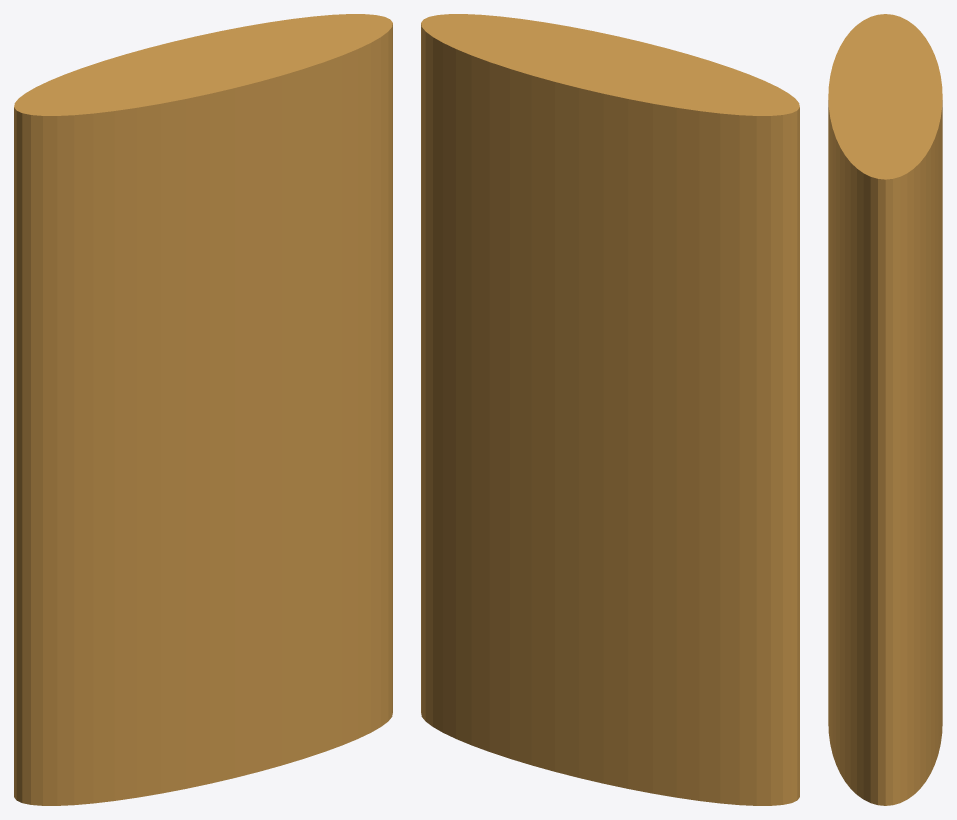
The model's file is tinkercad_model.glb.
3 renders of one model, left to right at view 1: azimuth 30°, elevation 25°; view 2: azimuth 150°, elevation 25°; view 3: azimuth 270°, elevation 25°, orthographic. The views are drawn at different scales.
Visible parts, largest first — view 1: Mesh_Mesh_head_geo.001_lambert2SG.001; view 2: Mesh_Mesh_head_geo.001_lambert2SG.001; view 3: Mesh_Mesh_head_geo.001_lambert2SG.001.
Boxes of the visible parts, left/top/right/bottom form: Mesh_Mesh_head_geo.001_lambert2SG.001: left=14, top=14, right=392, bottom=805; Mesh_Mesh_head_geo.001_lambert2SG.001: left=421, top=14, right=799, bottom=805; Mesh_Mesh_head_geo.001_lambert2SG.001: left=828, top=14, right=942, bottom=805.
Size of the model in its own units: 0.072 by 0.127 by 0.021.
